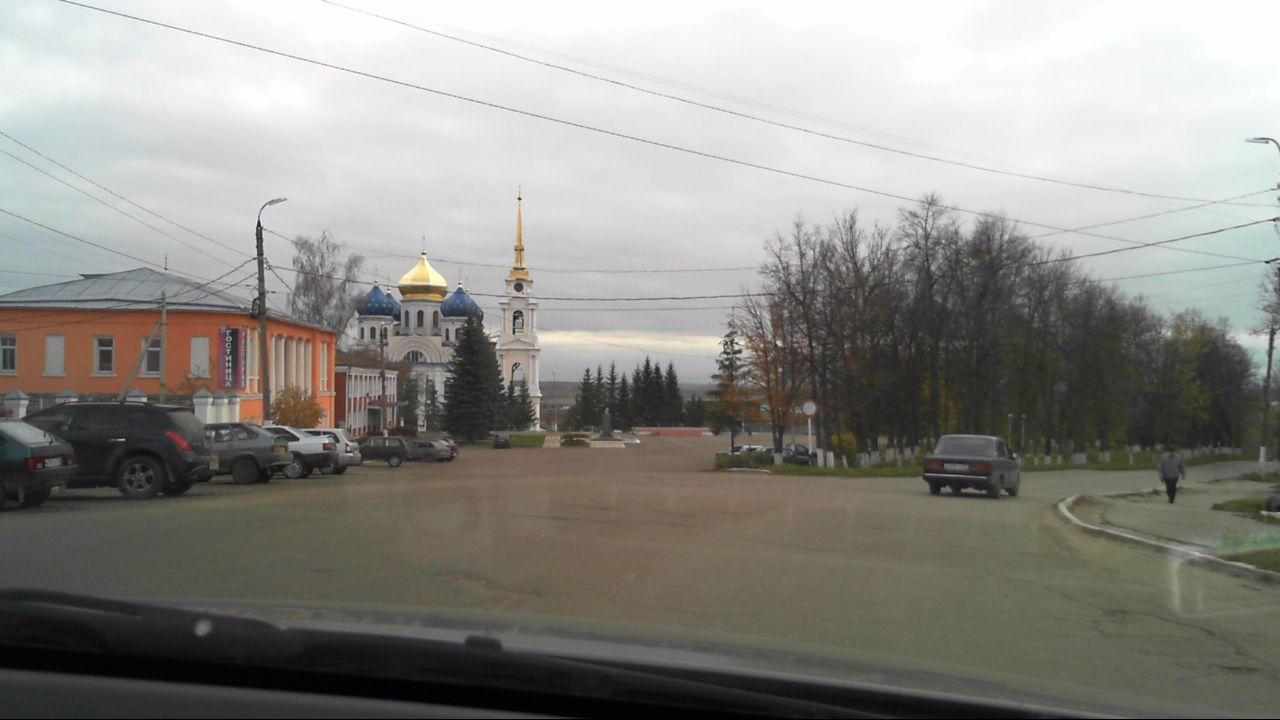3_2: (799, 396, 821, 419)
